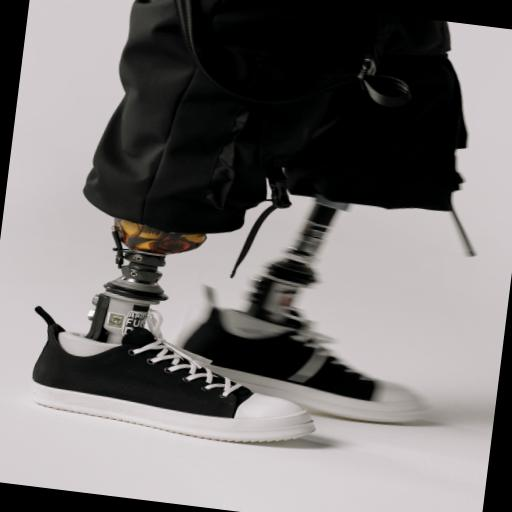shoe: (31, 308, 314, 442), (185, 307, 428, 422)
